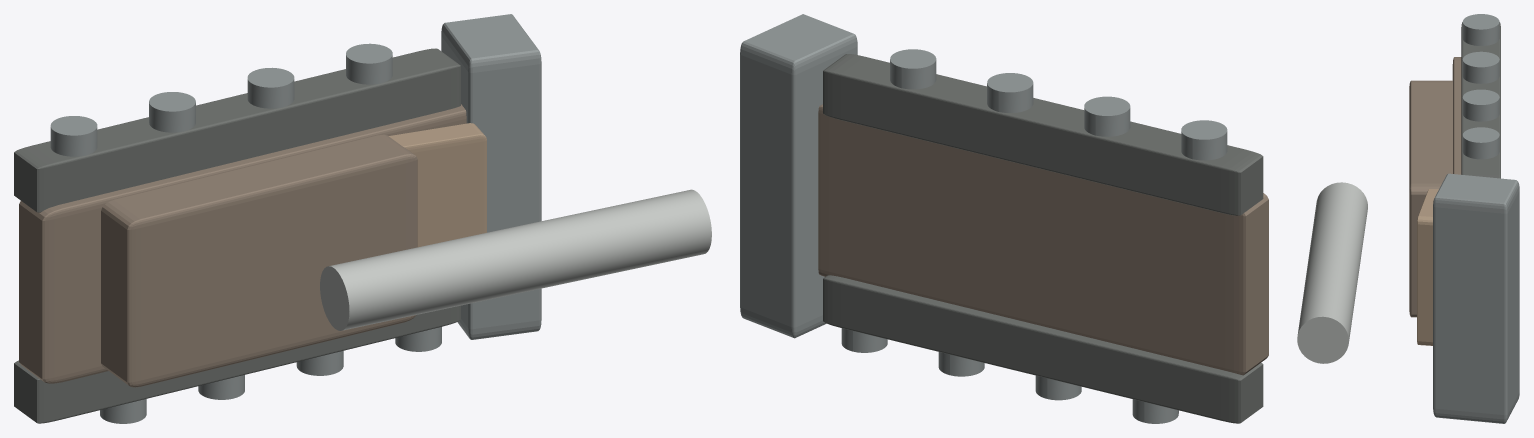
The model's file is d-u19-dominion-siege-tank-lod2.glb.
3 views of the same model, side by side, from view 1: azimuth 30°, elevation 25°; view 2: azimuth 150°, elevation 25°; view 3: azimuth 270°, elevation 25° (orthographic). The views are drawn at different scales.
Visible parts, largest first — view 1: upper_hull, siege_cannon_barrel_0, chassis_track_1, chassis_lower, siege_dozer, chassis_track_-1, chassis_glacis, chassis_roadwheel_1_4, chassis_roadwheel_1_0, chassis_roadwheel_1_6, chassis_roadwheel_1_2, chassis_roadwheel_-1_5 (+3 smaller); view 2: chassis_lower, chassis_track_1, siege_dozer, chassis_track_-1, chassis_roadwheel_1_0, chassis_roadwheel_1_2, chassis_roadwheel_1_6, chassis_roadwheel_1_4, chassis_roadwheel_-1_3, chassis_roadwheel_-1_5, chassis_roadwheel_-1_1, chassis_roadwheel_-1_7; view 3: siege_dozer, siege_cannon_barrel_0, upper_hull, chassis_glacis, chassis_track_1, chassis_roadwheel_1_6, chassis_roadwheel_1_4, chassis_roadwheel_1_2, chassis_roadwheel_1_0, chassis_lower.
Boxes of the visible parts, x1,y1,x2,y2 form: upper_hull: [101, 134, 417, 387]; siege_cannon_barrel_0: [320, 189, 711, 330]; chassis_track_1: [14, 48, 460, 212]; chassis_lower: [19, 104, 466, 383]; siege_dozer: [441, 14, 541, 339]; chassis_track_-1: [14, 305, 460, 423]; chassis_glacis: [389, 123, 486, 247]; chassis_roadwheel_1_4: [247, 67, 294, 108]; chassis_roadwheel_1_0: [50, 116, 97, 156]; chassis_roadwheel_1_6: [346, 43, 392, 84]; chassis_roadwheel_1_2: [149, 92, 195, 132]; chassis_roadwheel_-1_5: [296, 351, 343, 375]; chassis_lower: [818, 104, 1268, 375]; chassis_track_1: [823, 54, 1263, 215]; siege_dozer: [740, 14, 857, 338]; chassis_track_-1: [823, 275, 1263, 423]; chassis_roadwheel_1_0: [1181, 120, 1227, 160]; chassis_roadwheel_1_2: [1084, 96, 1130, 136]; chassis_roadwheel_1_6: [890, 49, 936, 89]; chassis_roadwheel_1_4: [987, 73, 1033, 112]; chassis_roadwheel_-1_3: [1035, 375, 1081, 400]; chassis_roadwheel_-1_5: [938, 352, 984, 376]; chassis_roadwheel_-1_1: [1132, 399, 1178, 423]; chassis_roadwheel_-1_7: [841, 328, 887, 352]; siege_dozer: [1433, 173, 1519, 423]; siege_cannon_barrel_0: [1297, 182, 1367, 363]; upper_hull: [1409, 80, 1452, 317]; chassis_glacis: [1417, 189, 1438, 345]; chassis_track_1: [1461, 22, 1500, 178]; chassis_roadwheel_1_6: [1462, 127, 1499, 159]; chassis_roadwheel_1_4: [1462, 89, 1499, 121]; chassis_roadwheel_1_2: [1462, 51, 1499, 83]; chassis_roadwheel_1_0: [1462, 14, 1499, 45]; chassis_lower: [1452, 57, 1461, 174].
Size of what is drawn, in the model's own units: 11.13 by 5.58 by 4.77.
